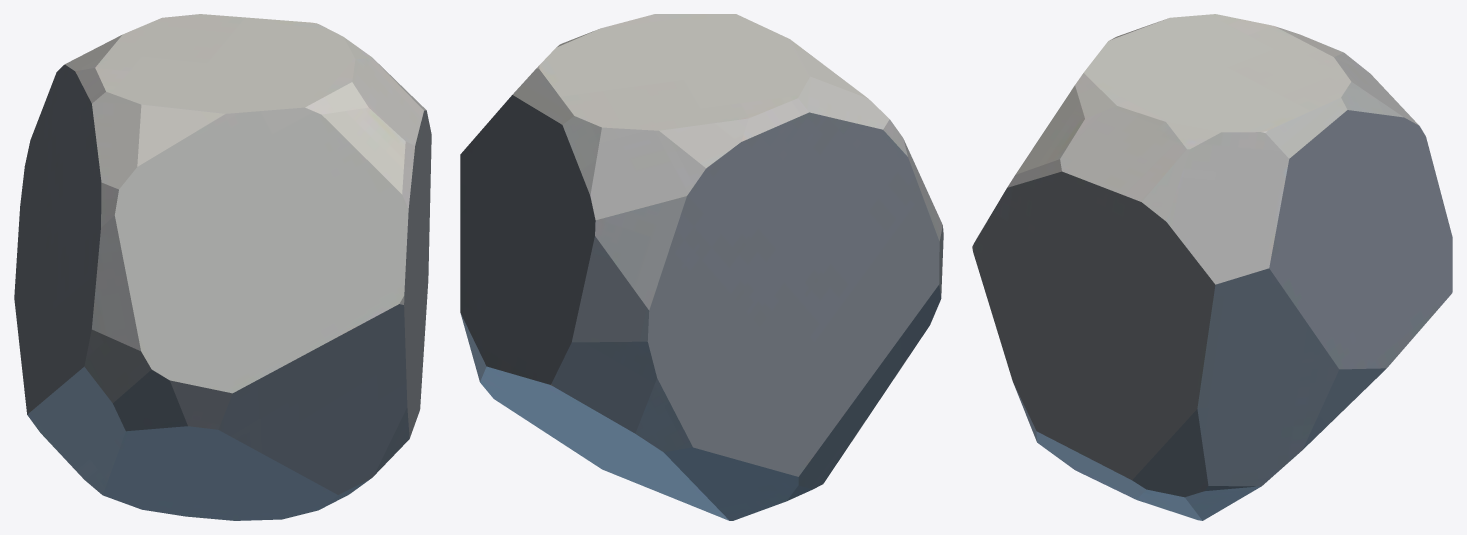
File: 3jql0qtape-.glb
3 renders of one model, left to right at view 1: azimuth 30°, elevation 25°; view 2: azimuth 150°, elevation 25°; view 3: azimuth 270°, elevation 25°, orthographic. The views are drawn at different scales.
Visible parts, largest first — view 1: boulder; view 2: boulder; view 3: boulder.
Part boxes in pixels (x1,y1,x2,y2): boulder: (14,14,431,520); boulder: (460,14,943,520); boulder: (972,14,1452,520).
Bounding box in the file's own units: 0.987 × 1 × 1.05.
1 material, 1 textured.
